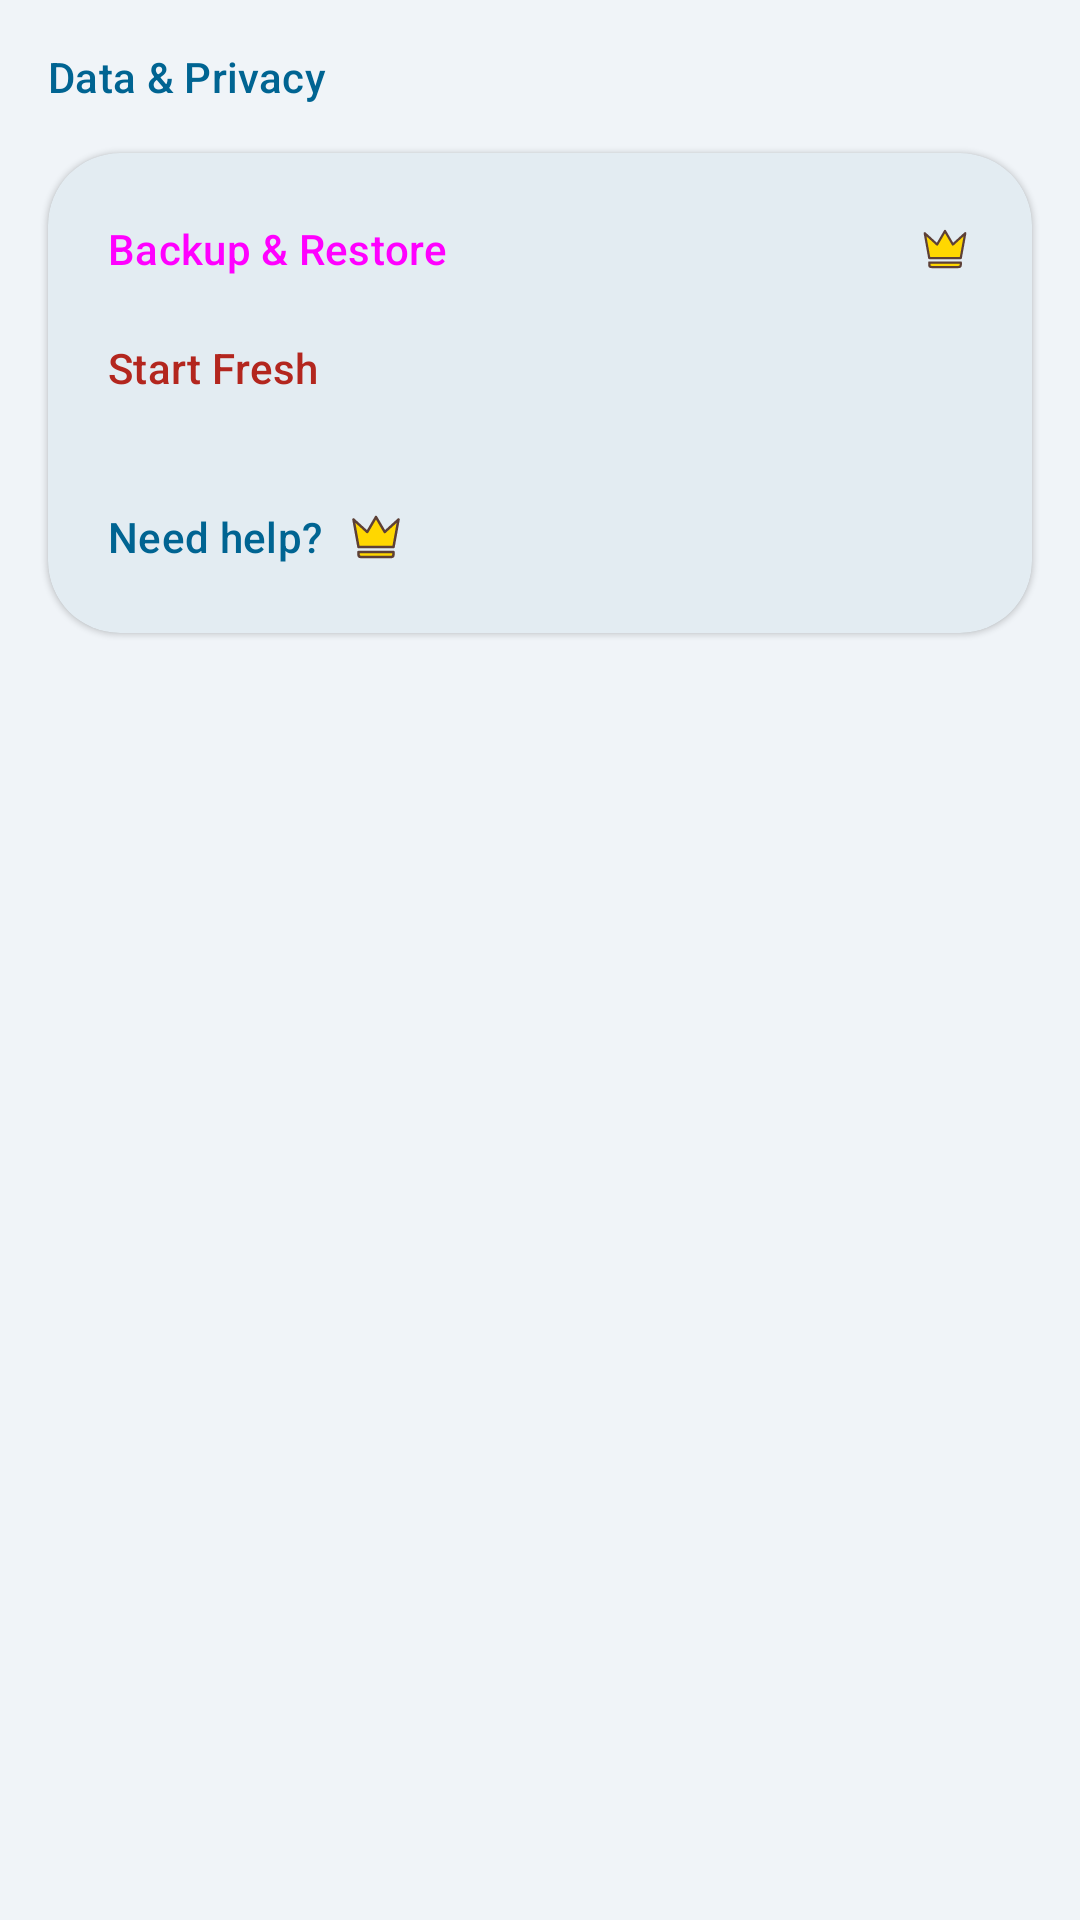

Point at icon controls on the screen. Image size 1080px×1920px, points as [x,y].
crown: [945,249]
